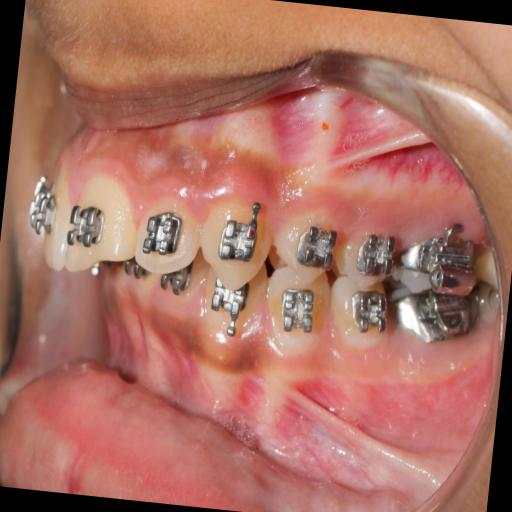correct_brace: (267, 208, 343, 292), (212, 198, 268, 270), (136, 202, 190, 266)
incorrect_brace: (127, 184, 207, 287), (290, 222, 341, 274)
